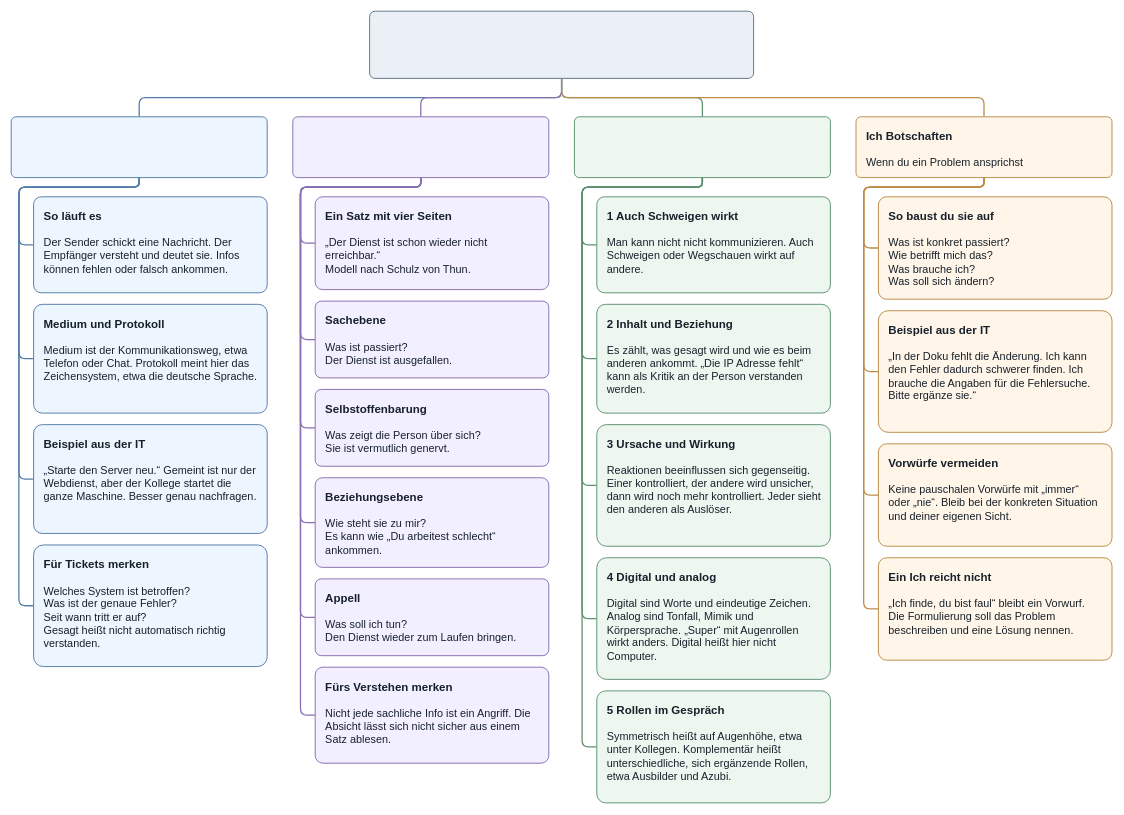
Some shapes in this 1124 by 815 pixel diagram are drawn without their labels. Here are the shapes that lost their labels. From the top down, the box of each, then its label:
(369, 10, 754, 79): Kommunikationsgrundlagen Nachrichten klar verstehen und Streit vermeiden
(10, 116, 267, 178): Sender und Empfänger Bei unklaren Aufträgen
(292, 116, 549, 178): Die vier Ebenen Wenn etwas persönlich ankommt
(574, 116, 831, 178): Die fünf Axiome Wenn Streit sich hochschaukelt
